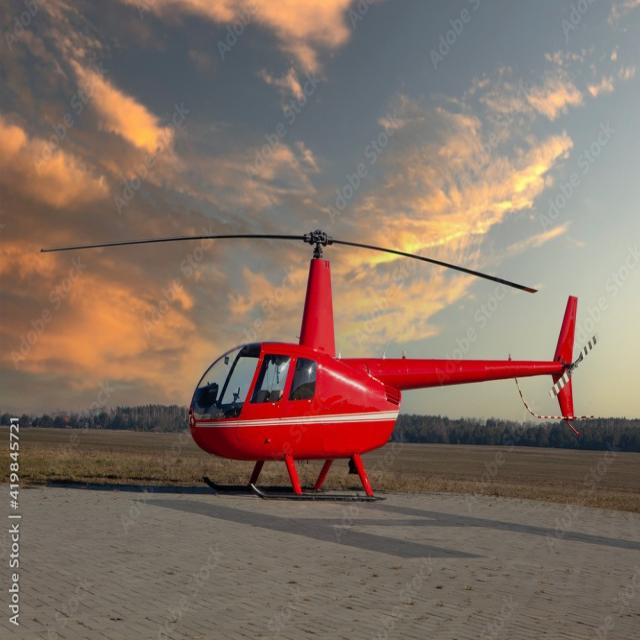CIV_HELO: (184, 225, 581, 504)
